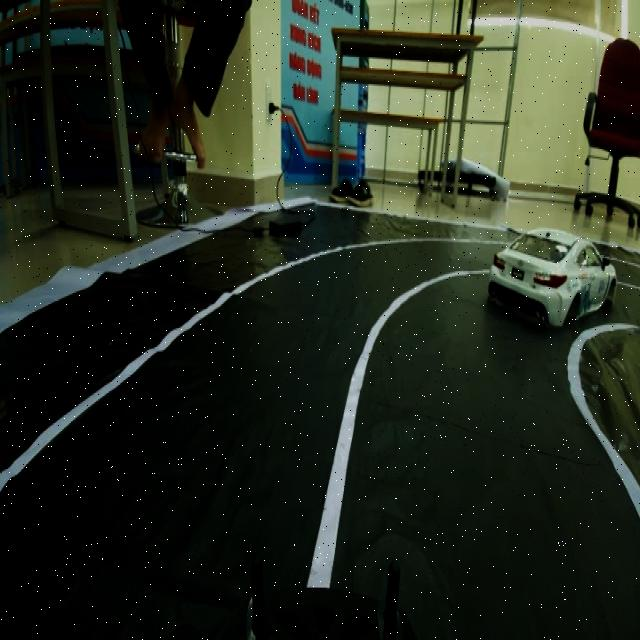car: (484, 212, 616, 328)
